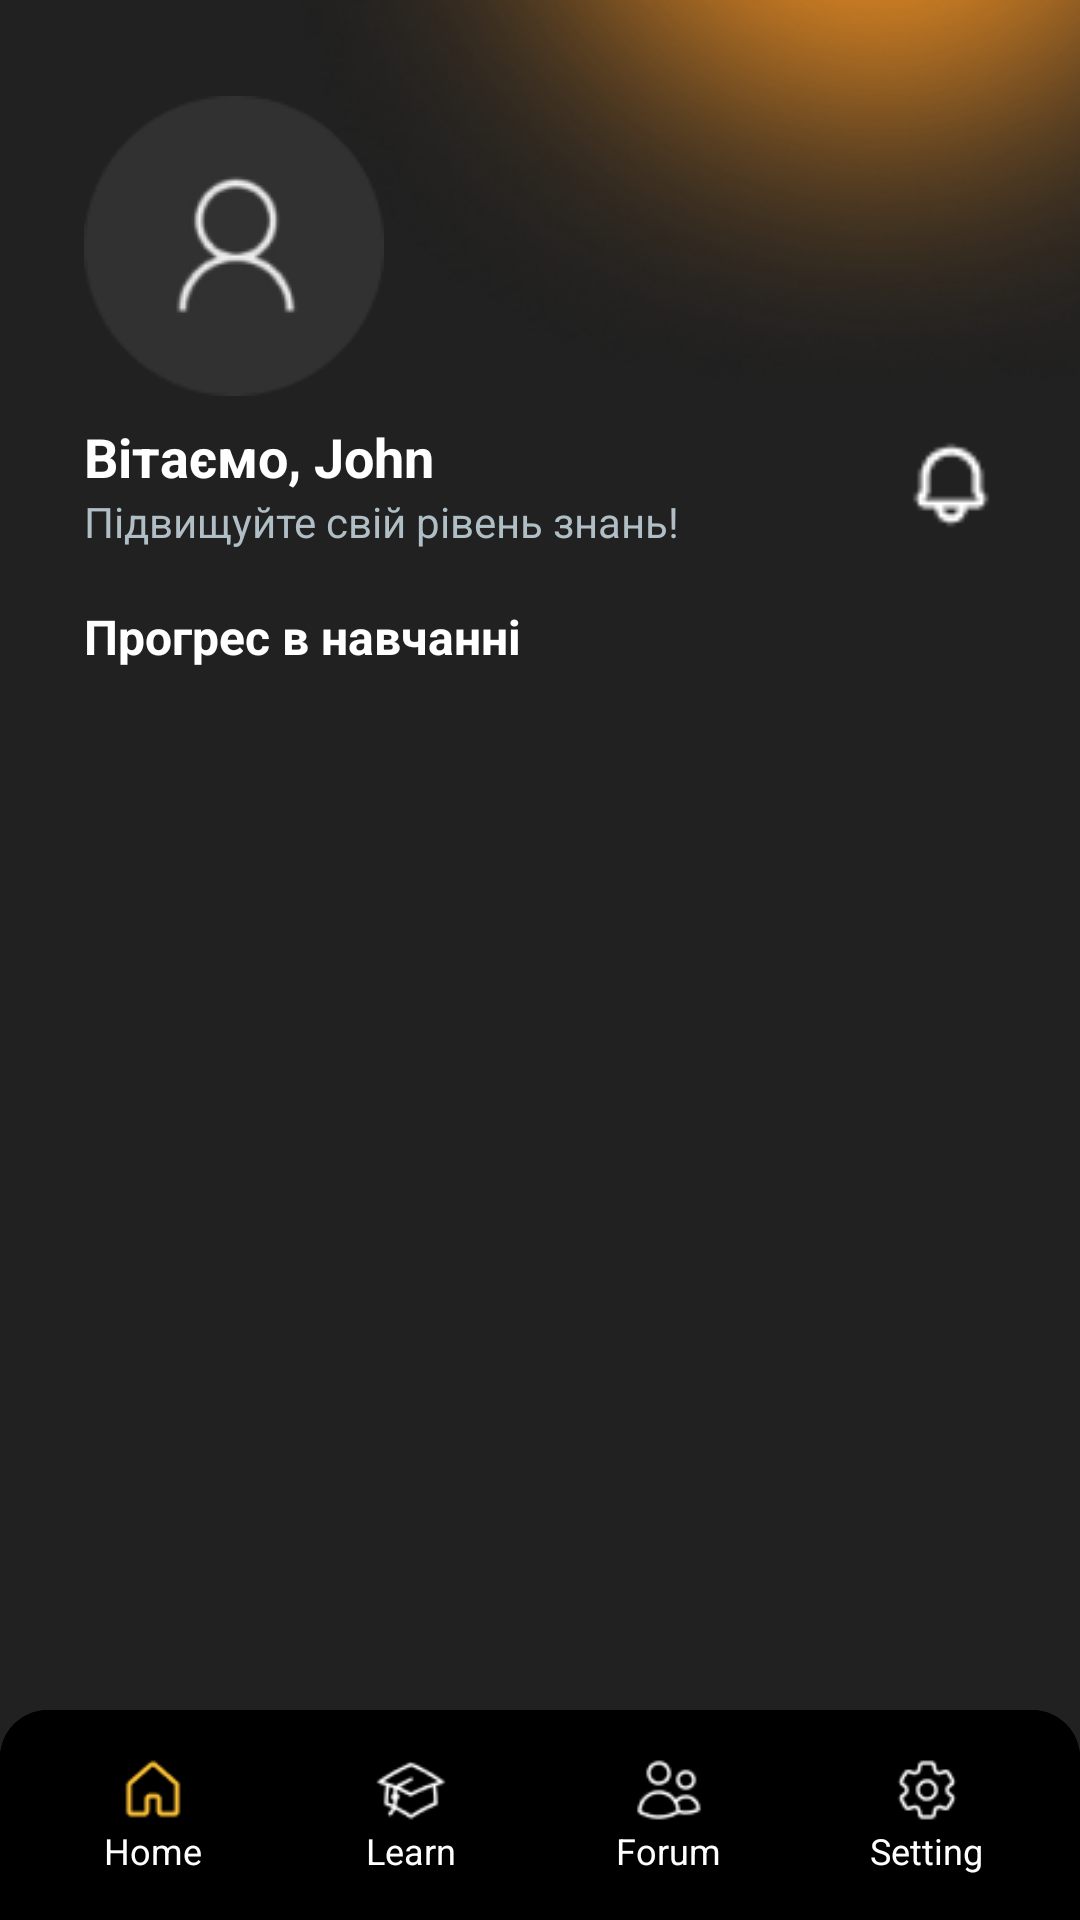

Point at icon controls on the screen. Image size 1080px x 1920px, points as point (x, y).
Notifications: point (951, 485)
